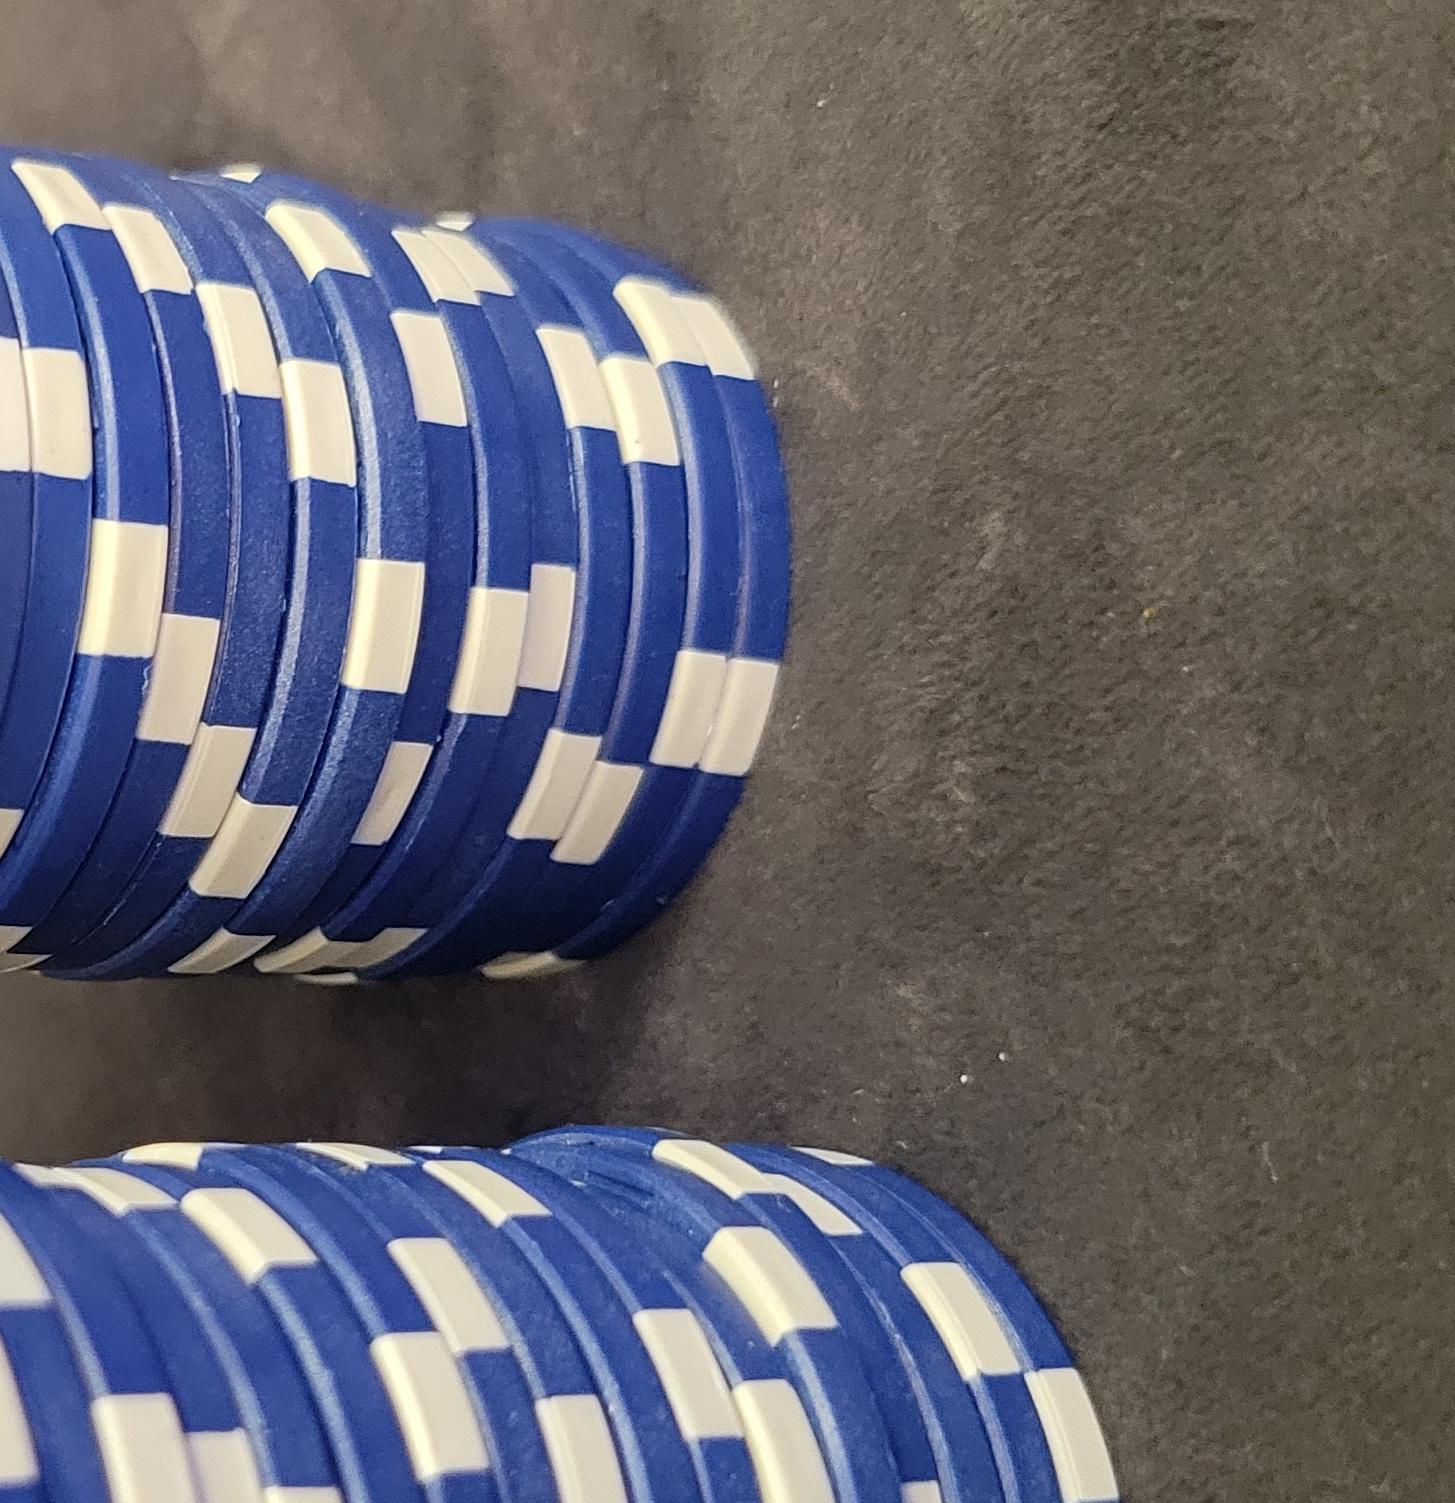Chip: (1, 181, 603, 1503)
